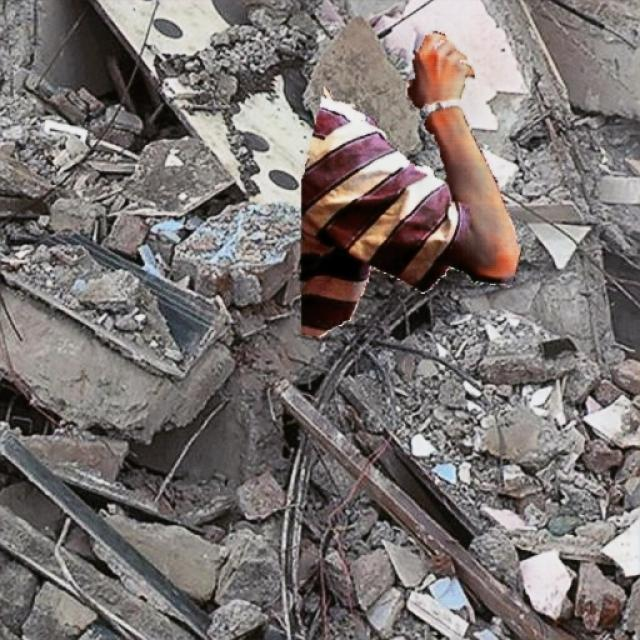Person in Rubble: (301, 31, 521, 338)
